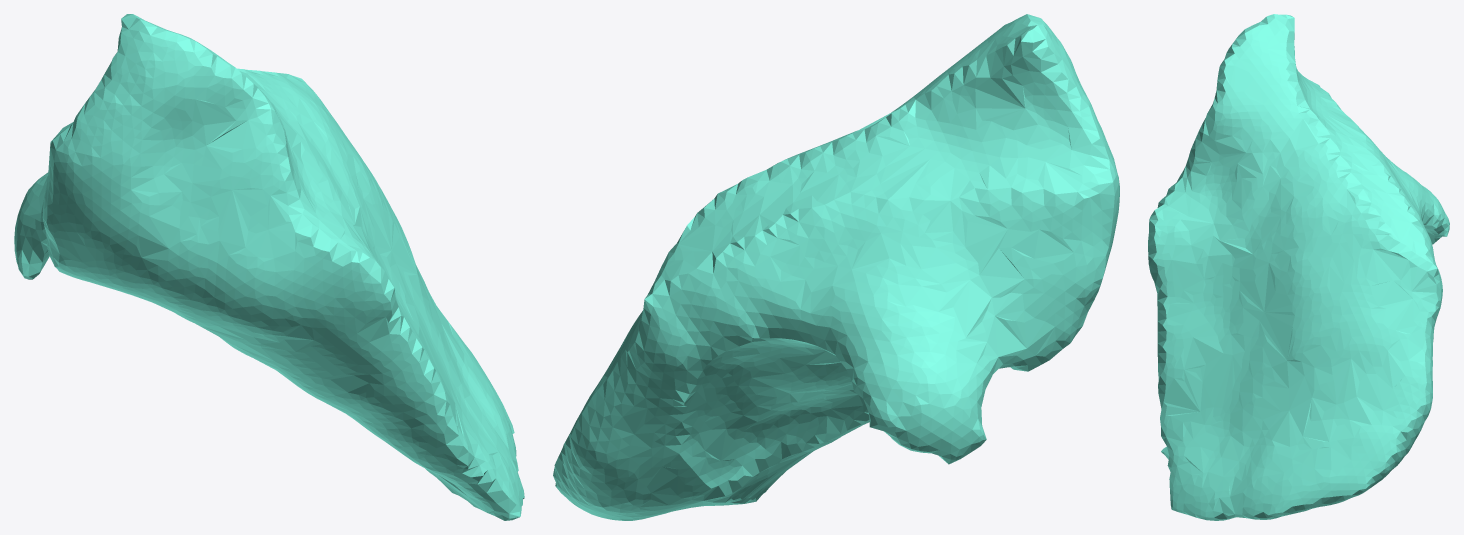
File: Model_215_RH__External_globus_pallidus_(EGP).obj
The picture shows the model from 3 angles, left to right: view 1: azimuth 30°, elevation 25°; view 2: azimuth 150°, elevation 25°; view 3: azimuth 270°, elevation 25°; orthographic projection. The views are drawn at different scales.
Bounding box in the file's own units: 3.91 × 4.38 × 3.06.
